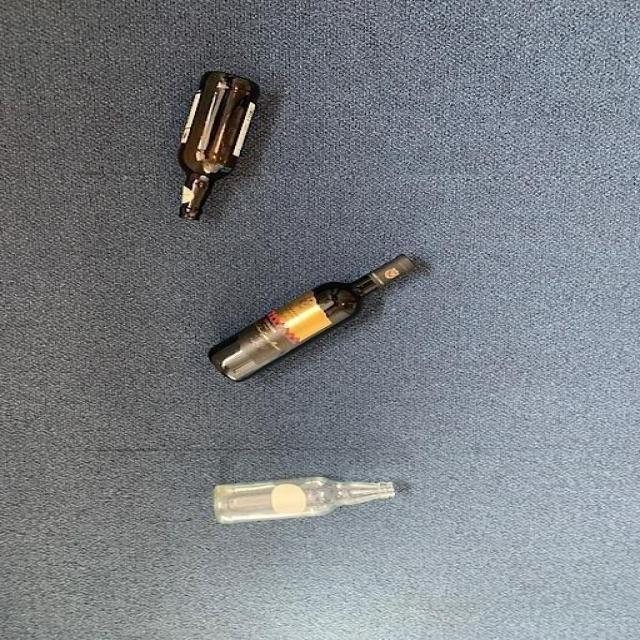bottle-glass: (210, 248, 419, 378), (170, 69, 260, 221), (208, 471, 398, 526)
